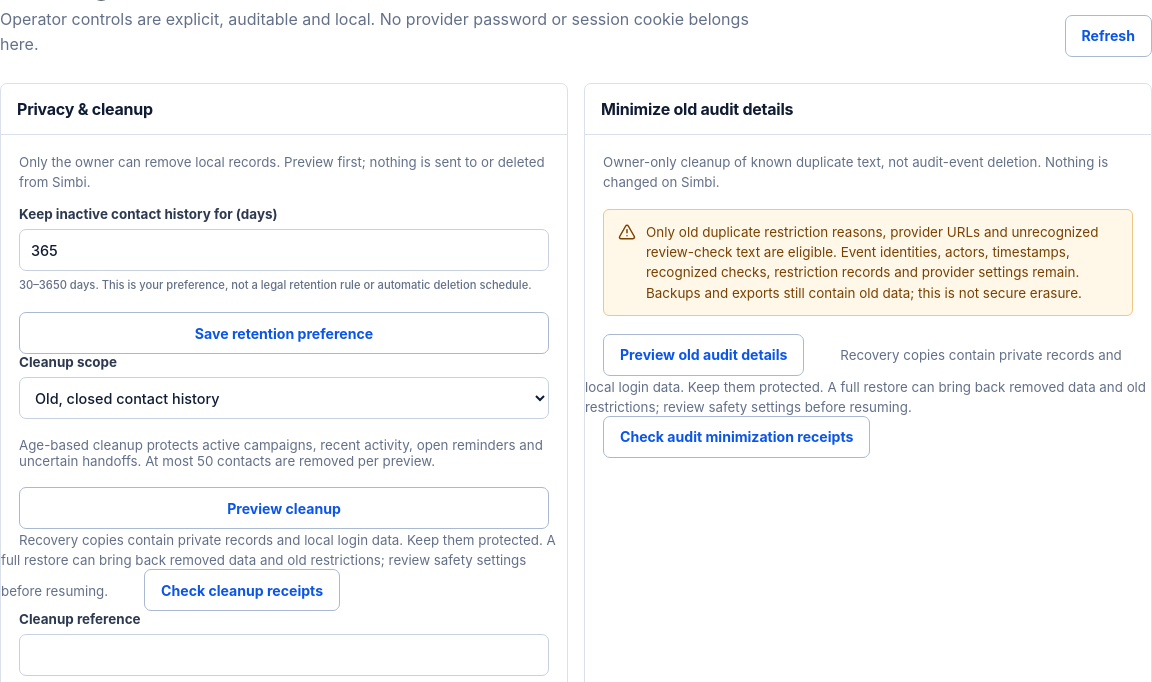
Scenario: updates an untouched provider input from an explicit Settings refresh without making a write
Click the button "Refresh" at [1108, 36], box [1064,15,1151,57]
(page scrolled)
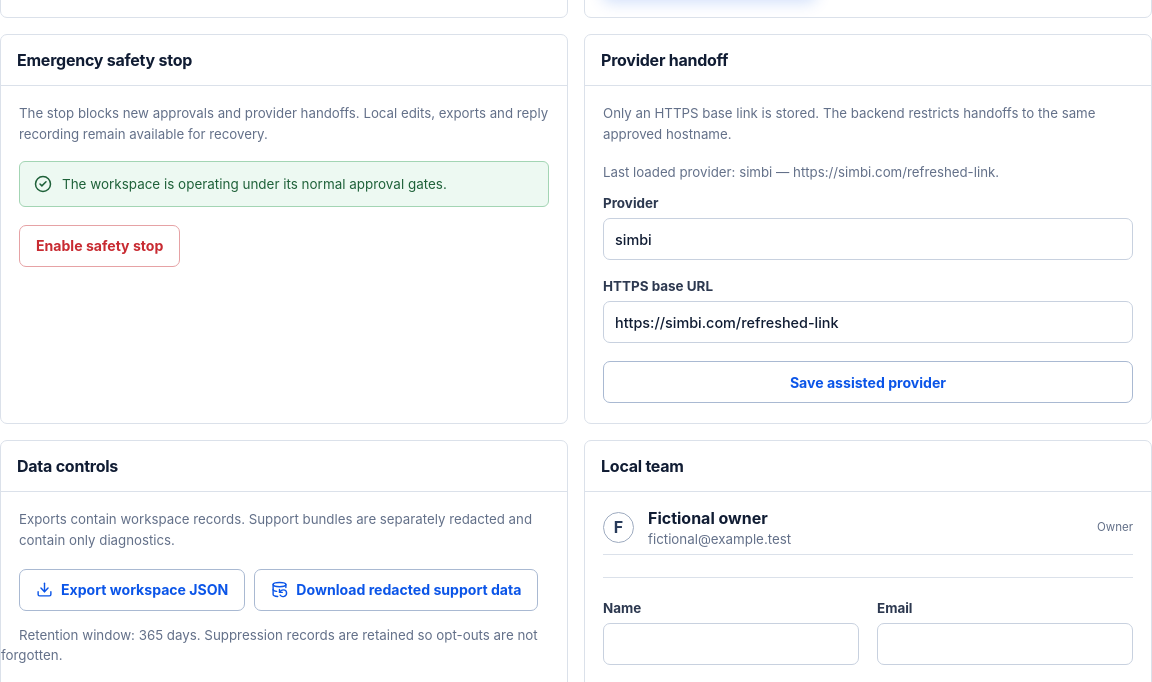
expect the field labelled "HTTPS base URL" holds "https://simbi.com/refreshed-link": met, box [603,301,1133,343]
